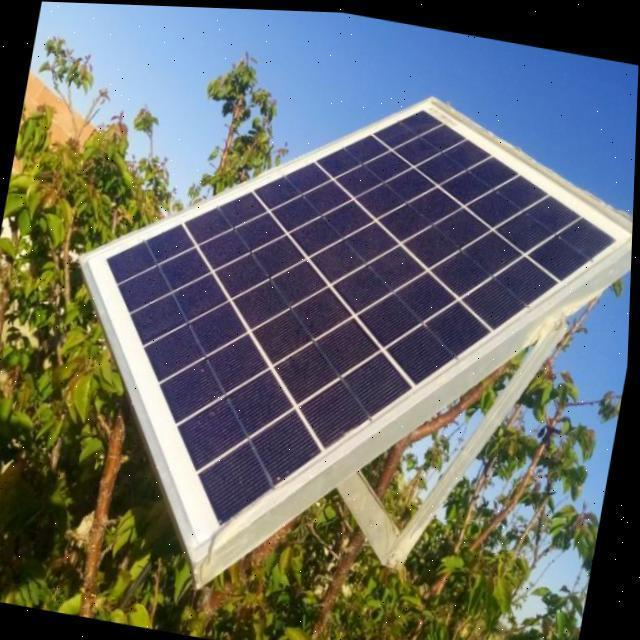Normal Solar Panel: (37, 38, 639, 612)
